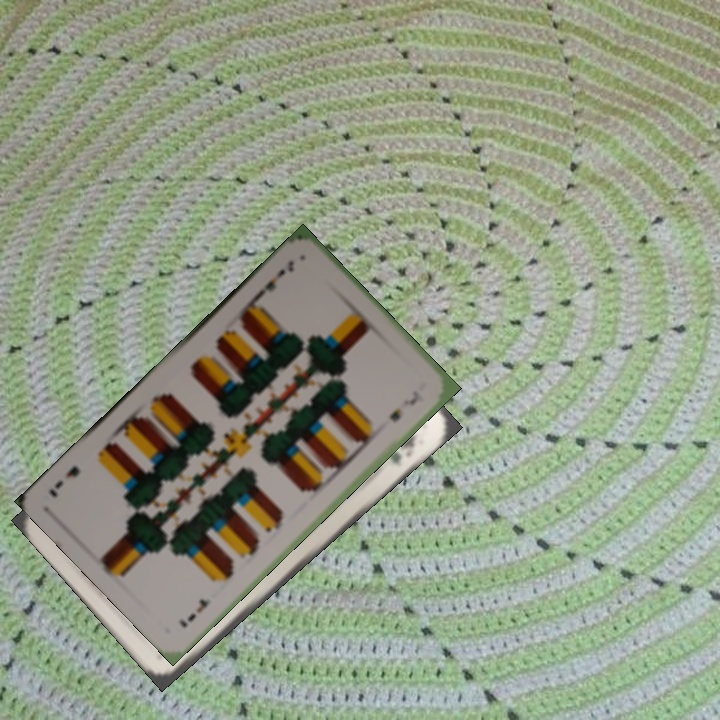E7: (253, 256, 297, 300), (174, 594, 212, 631)
